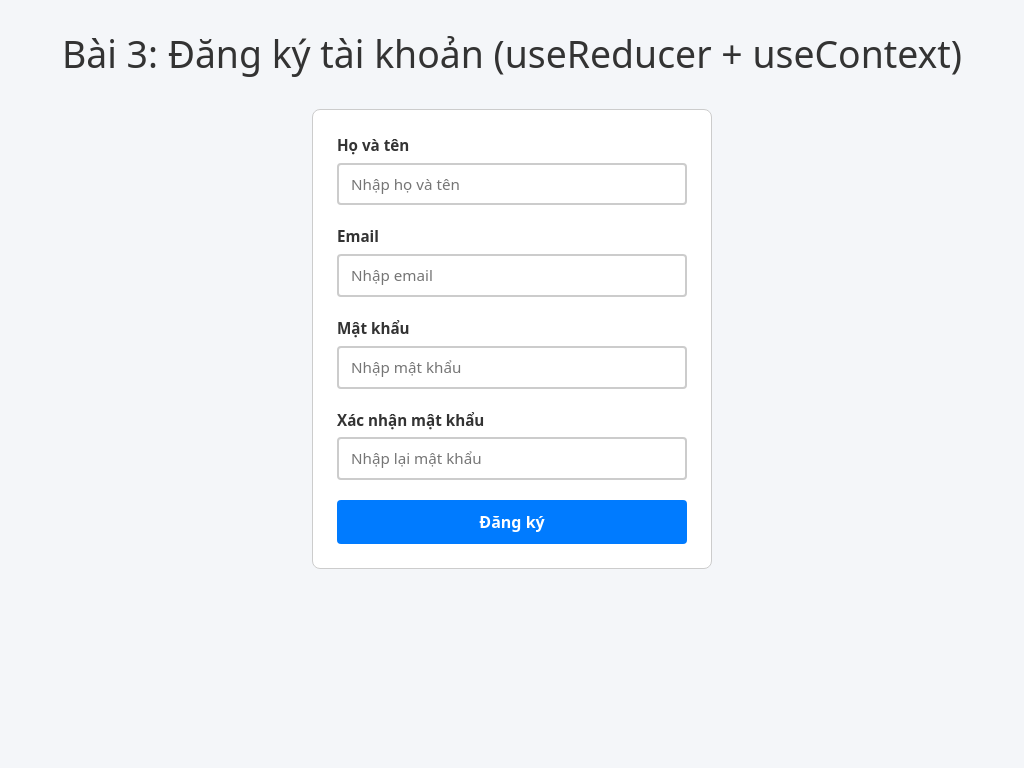
Test case: Ex03 – Validation Form (Context + Reducer) › hiển thị lỗi mật khẩu thiếu chữ hoa
Type "abc123" into the password field labelled "Mật khẩu".
click(512, 367); type("abc123")  # box [337,346,687,389]
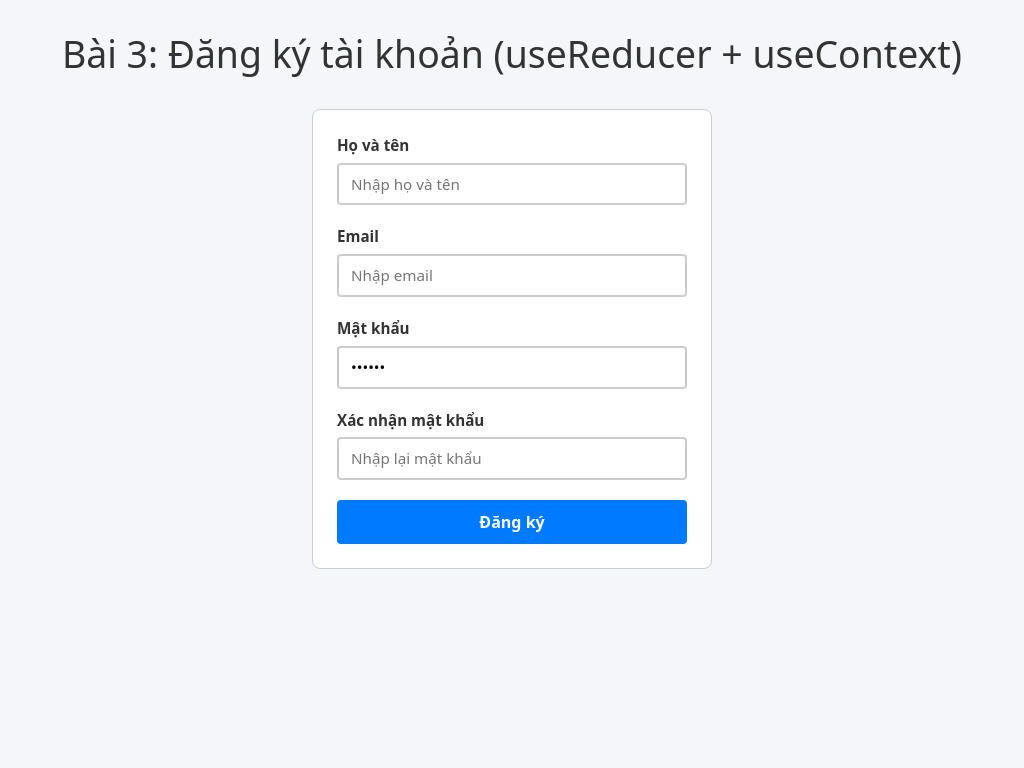
Leave the password field labelled "Mật khẩu", box [337,346,687,389]
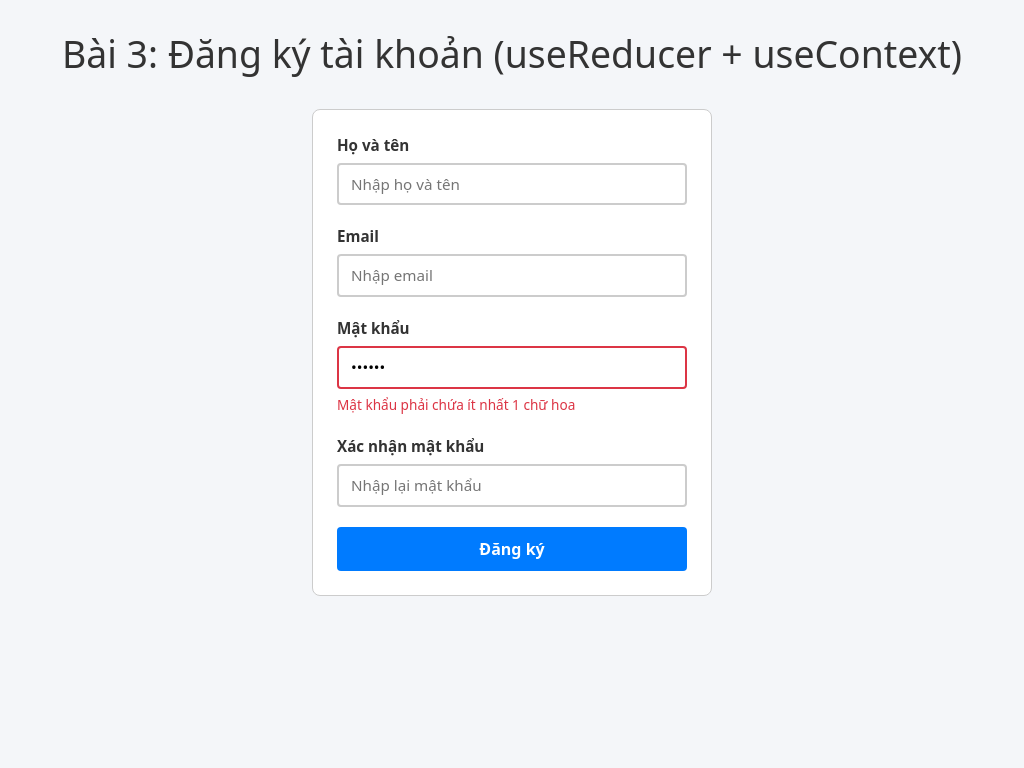
Now the text "Mật khẩu phải chứa ít nhất 1 chữ hoa" is shown, box [337,395,575,414]
